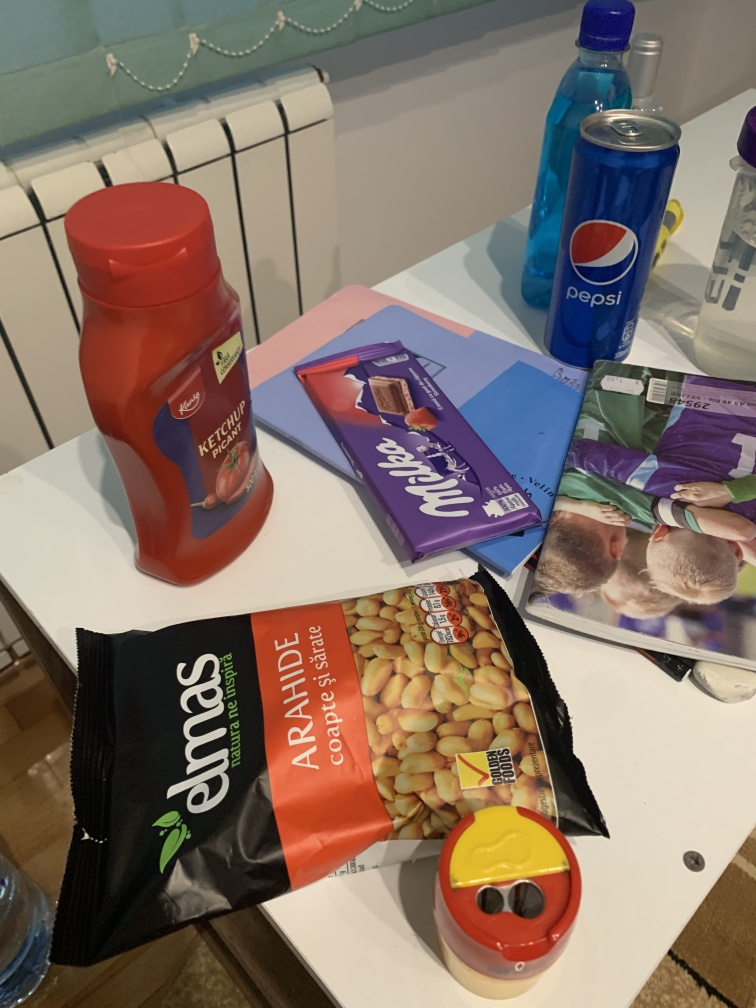ketchup: (61, 174, 294, 592)
milka: (294, 339, 545, 574)
peanuts: (40, 576, 617, 948)
pepsi: (539, 109, 685, 370)
